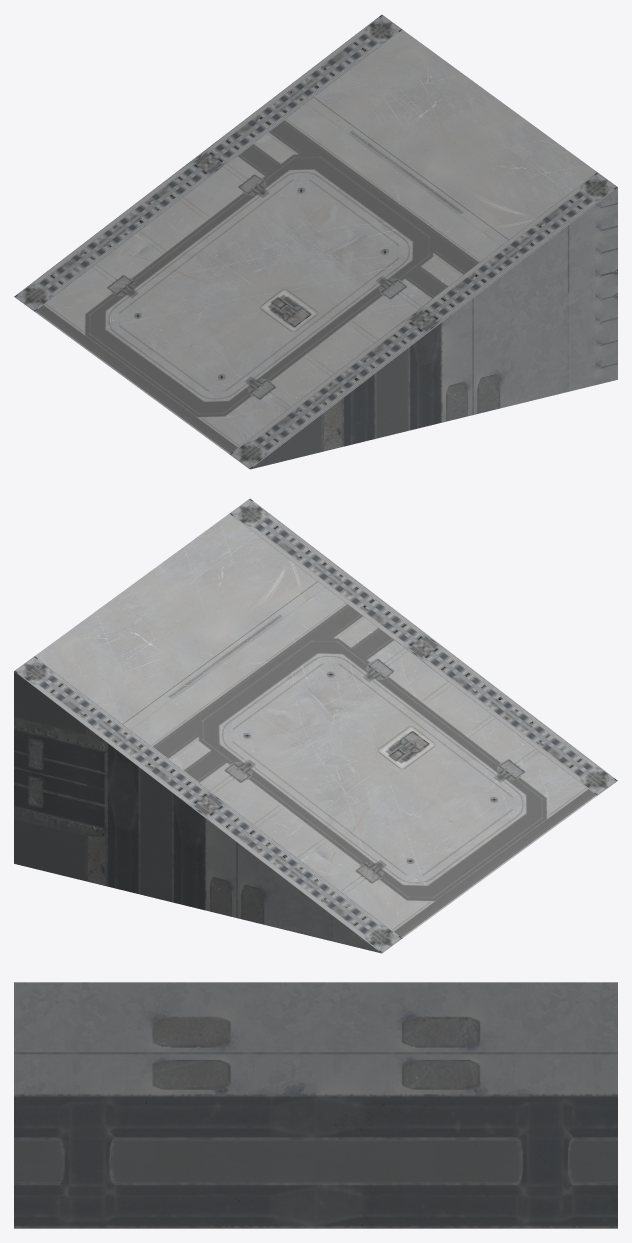
File: SM_UnderStair2.fbx
3 views of the same model, one above another, from view 1: azimuth 30°, elevation 25°; view 2: azimuth 150°, elevation 25°; view 3: azimuth 270°, elevation 25° (orthographic). The views are drawn at different scales.
Parts seen in each view (by area): view 1: SM_UnderStair2_LOD0; view 2: SM_UnderStair2_LOD0; view 3: SM_UnderStair2_LOD0.
Part boxes in pixels (x1=…): SM_UnderStair2_LOD0: x1=14, y1=14, x2=617, y2=469; SM_UnderStair2_LOD0: x1=14, y1=498, x2=617, y2=953; SM_UnderStair2_LOD0: x1=14, y1=982, x2=617, y2=1228.
Bounding box in the file's own units: 180 × 200 × 90.
2 materials, 2 textured.
